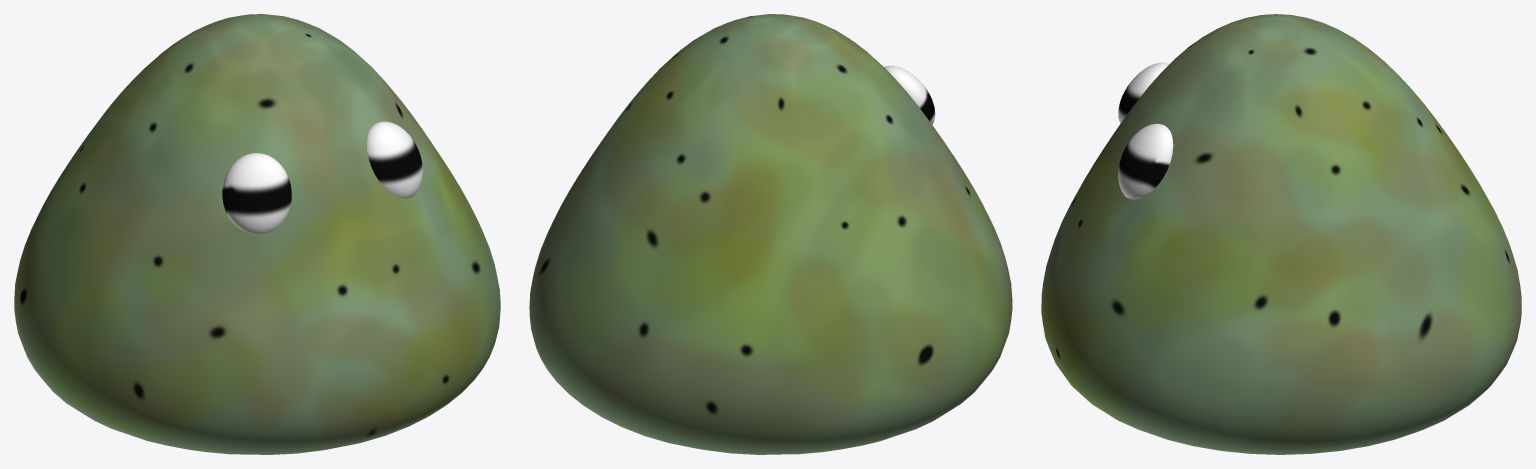
The model's file is slime.obj.
The picture shows the model from 3 angles, left to right: view 1: azimuth 30°, elevation 25°; view 2: azimuth 150°, elevation 25°; view 3: azimuth 270°, elevation 25°; orthographic projection.
Parts seen in each view (by area): view 1: Slime; view 2: Slime; view 3: Slime.
Part boxes in pixels (x1,y1,x2,y2): Slime: (14,14,500,454); Slime: (529,14,1012,454); Slime: (1041,14,1521,454).
Size of the model in its own units: 2.05 by 1.71 by 2.05.
1 material, 1 textured.
